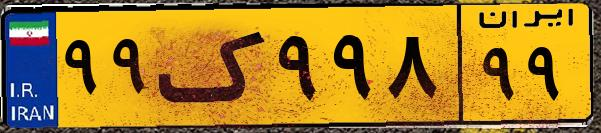8: (385, 28, 445, 110)
9: (270, 28, 330, 110), (330, 28, 385, 110), (57, 26, 110, 100), (475, 38, 525, 113), (525, 38, 570, 115), (110, 28, 158, 98)
ک: (158, 12, 270, 120)
